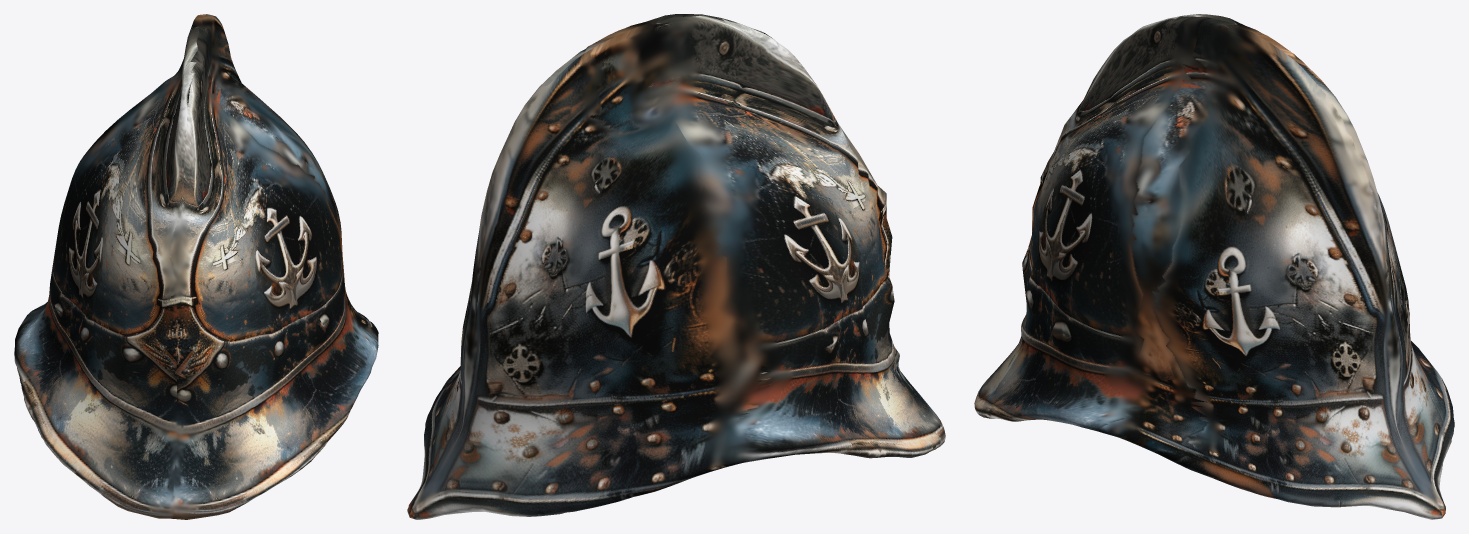
The model's file is шлем.gltf.
3 views of the same model, side by side, from view 1: azimuth 30°, elevation 25°; view 2: azimuth 150°, elevation 25°; view 3: azimuth 270°, elevation 25° (orthographic). The views are drawn at different scales.
Visible parts, largest first — view 1: mesh_004; view 2: mesh_004; view 3: mesh_004.
Boxes of the visible parts, left/top/right/bottom form: mesh_004: left=14, top=14, right=378, bottom=519; mesh_004: left=407, top=14, right=945, bottom=519; mesh_004: left=974, top=14, right=1454, bottom=519.
Size of the model in its own units: 1.26 by 1.33 by 1.33.
Materials: 1 (1 with a texture image).
